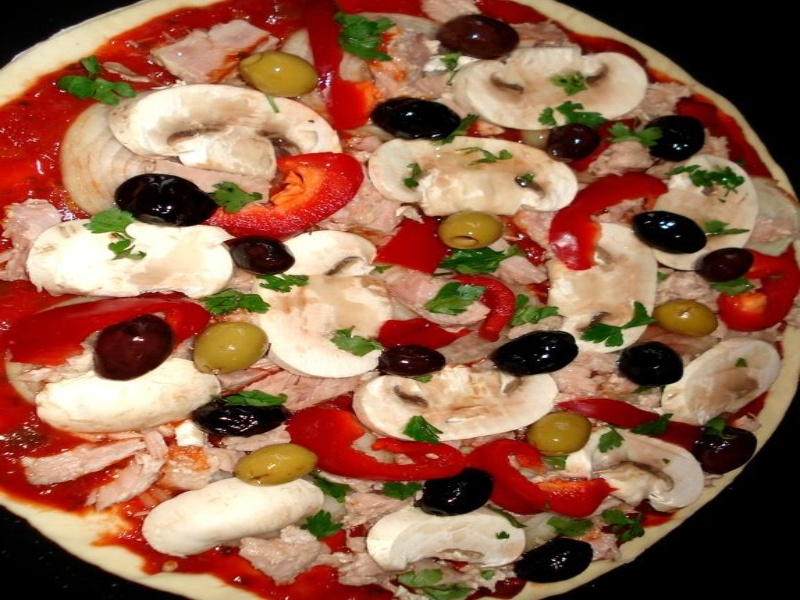champignon: (240, 223, 399, 383), (105, 80, 362, 178), (259, 222, 408, 389), (21, 216, 242, 309), (364, 134, 586, 224), (443, 39, 655, 132), (347, 360, 576, 446), (536, 218, 668, 362), (136, 470, 328, 561), (27, 356, 233, 435), (560, 422, 710, 516), (358, 498, 539, 575), (659, 332, 786, 428)
olive: (107, 173, 228, 234), (90, 313, 182, 384), (407, 462, 500, 524), (186, 387, 292, 441), (231, 49, 326, 109), (681, 416, 772, 477), (369, 90, 465, 147), (617, 206, 719, 259), (486, 328, 585, 382), (426, 12, 526, 63), (190, 317, 276, 375), (217, 234, 309, 287), (517, 409, 604, 461), (229, 439, 323, 487), (509, 535, 601, 584), (611, 337, 689, 394), (638, 110, 714, 166), (433, 206, 508, 261), (647, 296, 724, 342), (373, 341, 455, 383), (542, 120, 605, 168), (692, 244, 756, 287)
